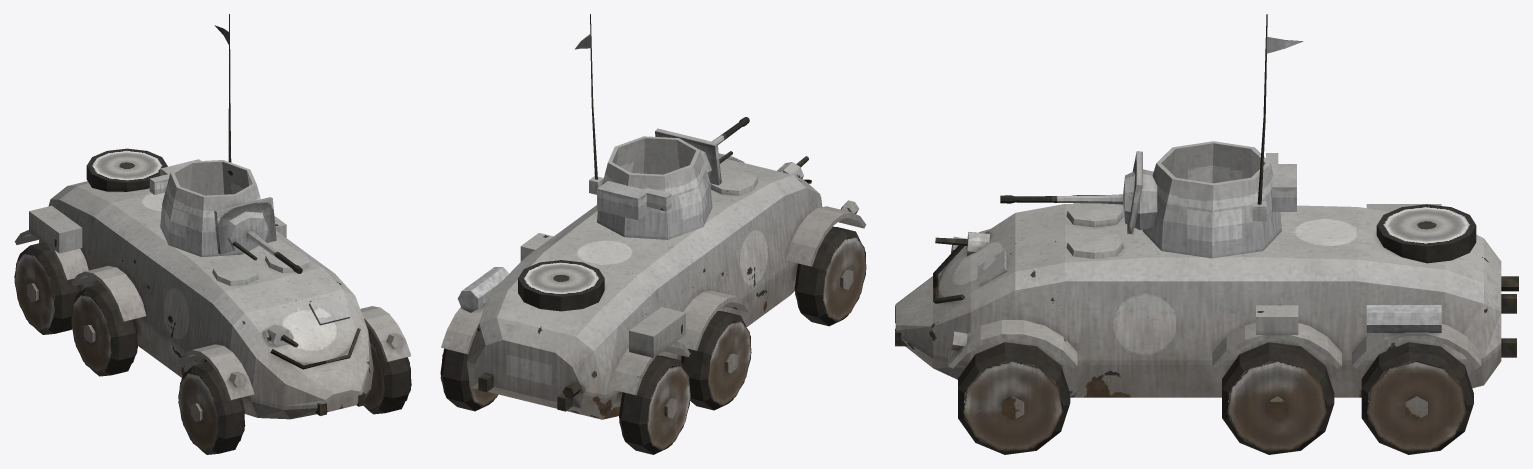
Rendered from scoutcar.glb.
The picture shows the model from 3 angles, left to right: view 1: azimuth 30°, elevation 25°; view 2: azimuth 150°, elevation 25°; view 3: azimuth 270°, elevation 25°; orthographic projection. The views are drawn at different scales.
Visible parts, largest first — view 1: scoutcar_LOD0; view 2: scoutcar_LOD0; view 3: scoutcar_LOD0.
Boxes of the visible parts, x1,y1,x2,y2 form: scoutcar_LOD0: (14, 14, 411, 454); scoutcar_LOD0: (440, 14, 866, 454); scoutcar_LOD0: (895, 14, 1518, 454).
Size of what is drawn, in the model's own units: 2.28 by 3.62 by 5.01.
1 material, 1 textured.
